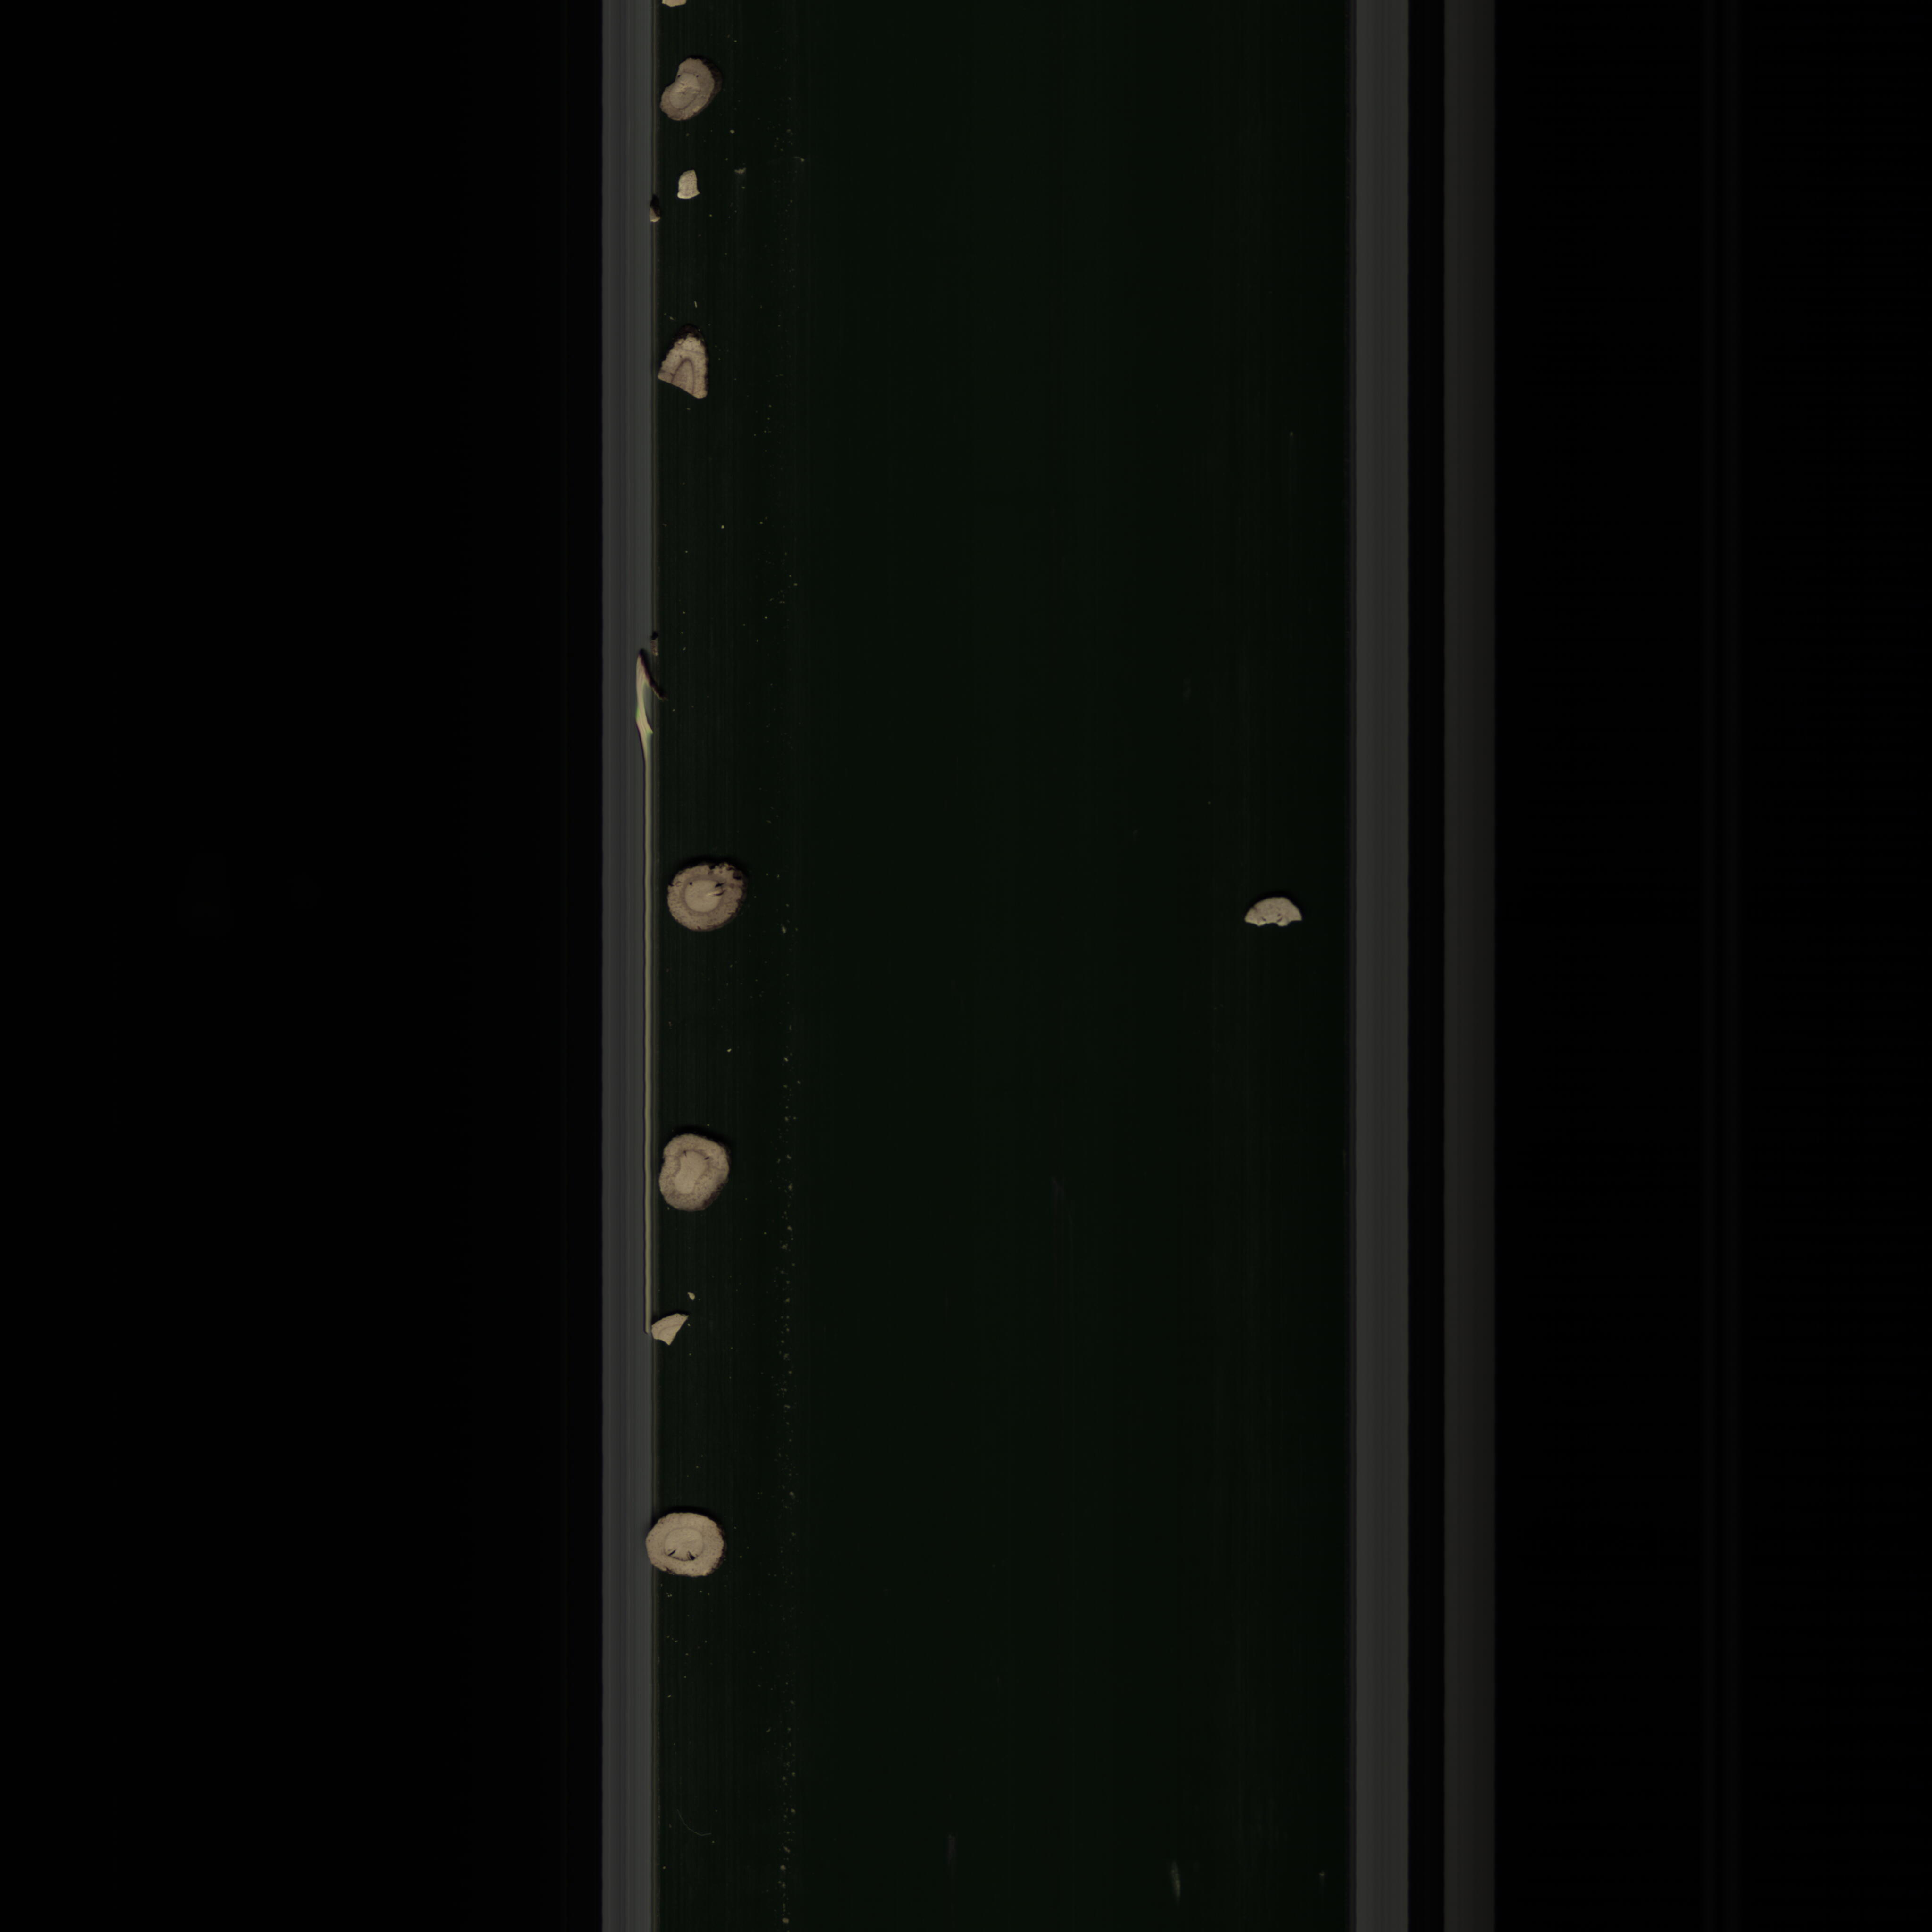debris: (656, 327, 717, 407), (1238, 893, 1306, 934), (649, 1309, 692, 1345), (672, 159, 702, 207)
hole: (656, 858, 761, 939), (640, 1511, 734, 1582)
moldy: (656, 46, 729, 134)
